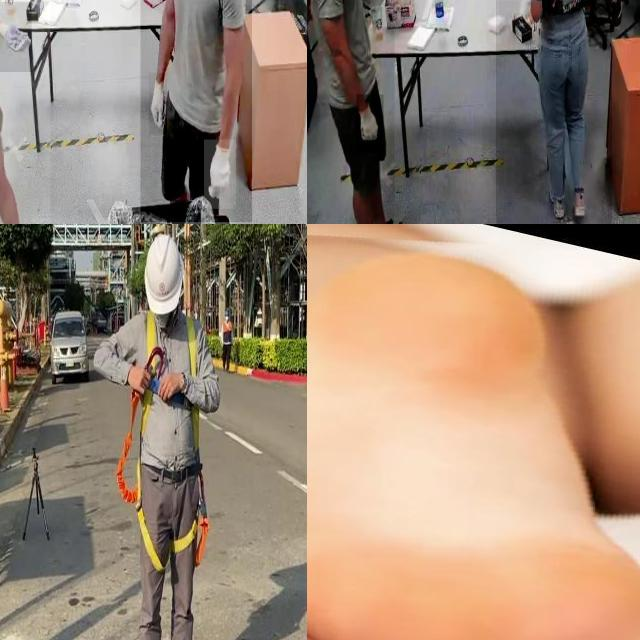Barefoots: (307, 224, 640, 640)
Harness: (116, 391, 210, 574), (145, 314, 198, 392)
hand_glove: (204, 140, 236, 210), (0, 2, 31, 72), (356, 94, 384, 154), (149, 73, 167, 136)
person: (495, 0, 612, 224), (140, 0, 252, 223), (307, 0, 395, 224)
shoes: (546, 184, 566, 221), (570, 185, 588, 220)
